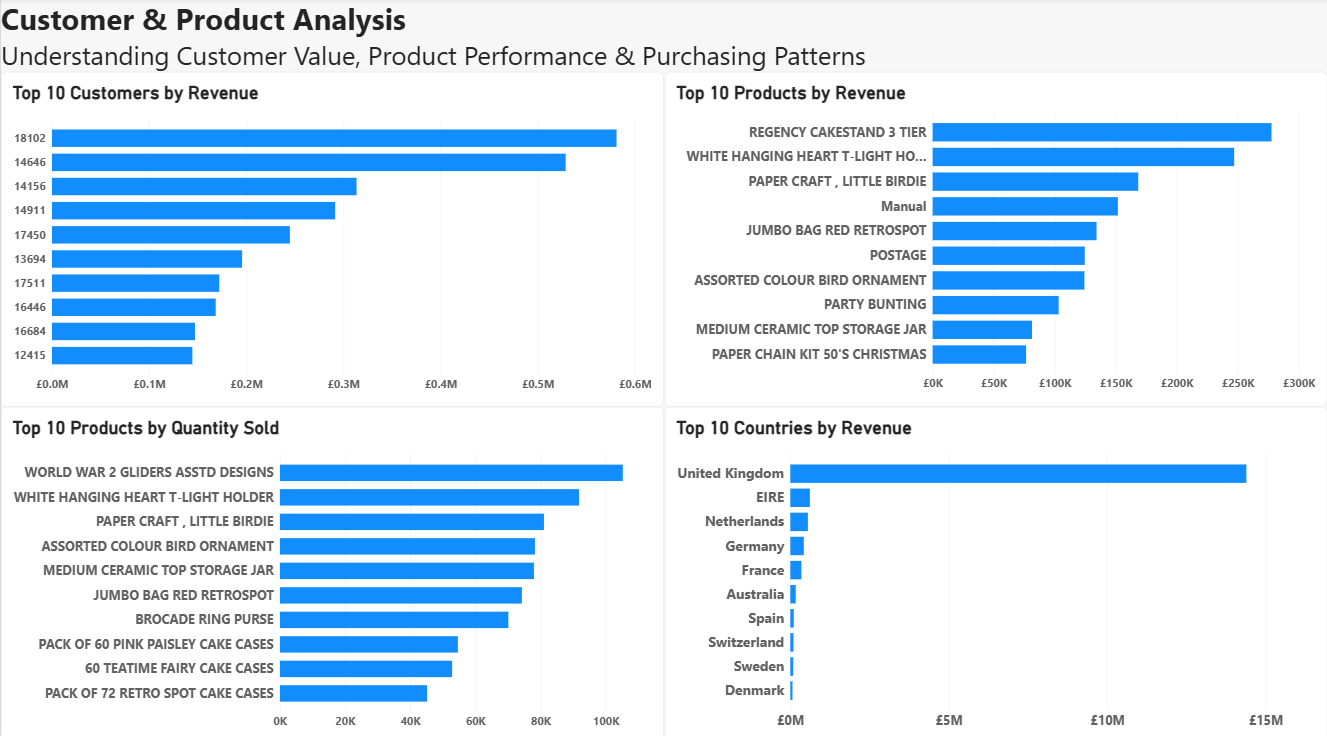

This screenshot's page, from the dashboard's own definition file:
{"tool":"powerbi","page":{"name":"Customer & Product Analysis","canvas":[1920,1080],"ordinal":2},"visuals":[{"type":"textbox","box":[0,0,1920.1,106.8],"z":0},{"type":"clusteredBarChart","title":"Top 10 Customers by Revenue","fields":{"Category":["customer_rfm_analysis.Customer ID"],"Y":["customer_rfm_analysis.Total Revenue"]},"box":[0,106.8,959.1,485],"z":1},{"type":"clusteredBarChart","title":"Top 10 Products by Revenue","fields":{"Category":["ecommerce_sales_data.Description"],"Y":["customer_rfm_analysis.Total Revenue"]},"box":[960.9,106.8,959.1,485],"z":2},{"type":"clusteredBarChart","title":"Top 10 Products by Quantity Sold","fields":{"Category":["ecommerce_sales_data.Description"],"Y":["Sum(ecommerce_sales_data.Quantity)"]},"box":[0,591.8,959.1,488.6],"z":3},{"type":"clusteredBarChart","title":"Top 10 Countries by Revenue","fields":{"Category":["ecommerce_sales_data.Country"],"Y":["customer_rfm_analysis.Total Revenue"]},"box":[960.9,591.8,959.1,488.6],"z":4}]}

Visuals, with their boxes in screenshot pixels (x1, y1, x2, y2), scaled from the page's 1920x1080 canvas onto the 1327x736 screenshot:
textbox: <region>0, 0, 1326, 73</region>
"Top 10 Customers by Revenue" clusteredBarChart: <region>0, 73, 663, 403</region>
"Top 10 Products by Revenue" clusteredBarChart: <region>664, 73, 1326, 403</region>
"Top 10 Products by Quantity Sold" clusteredBarChart: <region>0, 403, 663, 735</region>
"Top 10 Countries by Revenue" clusteredBarChart: <region>664, 403, 1326, 735</region>
